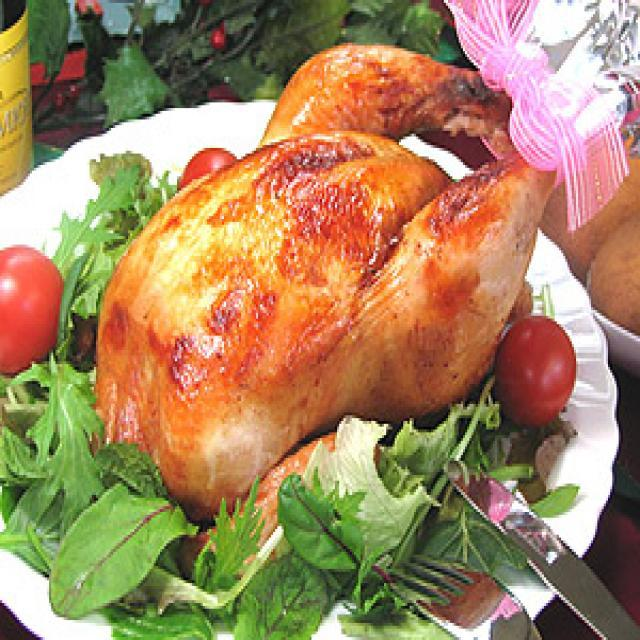Chicken roast: (107, 43, 536, 455)
Salad: (29, 318, 450, 640)
Tomato: (2, 248, 60, 376), (508, 324, 580, 420)
